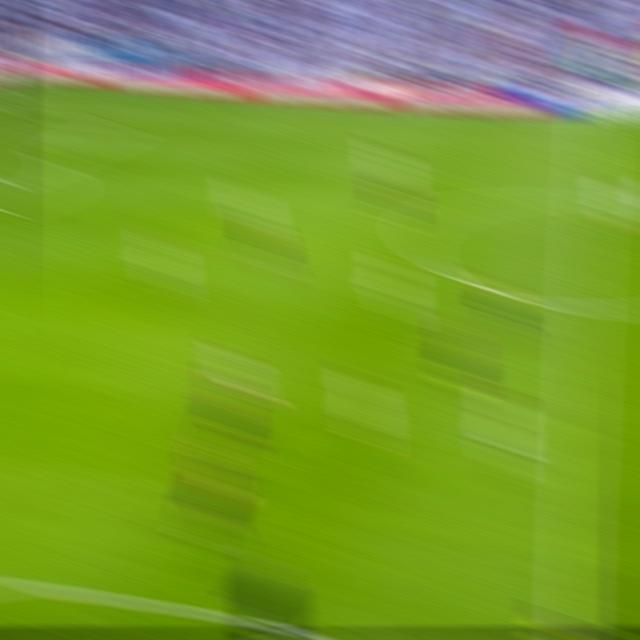bigarea_bottom_outter: (36, 148, 64, 171)
halfcircle_bottom: (566, 285, 603, 328)
halfcircle_top: (572, 181, 607, 218)
midline_top_intersection: (578, 110, 610, 134)
